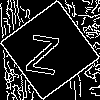Z: (25, 25, 62, 75)
